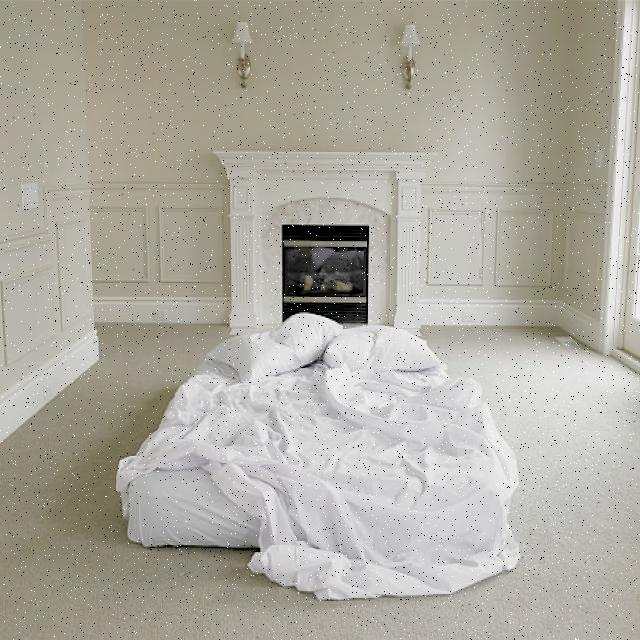bed: (126, 310, 497, 596)
